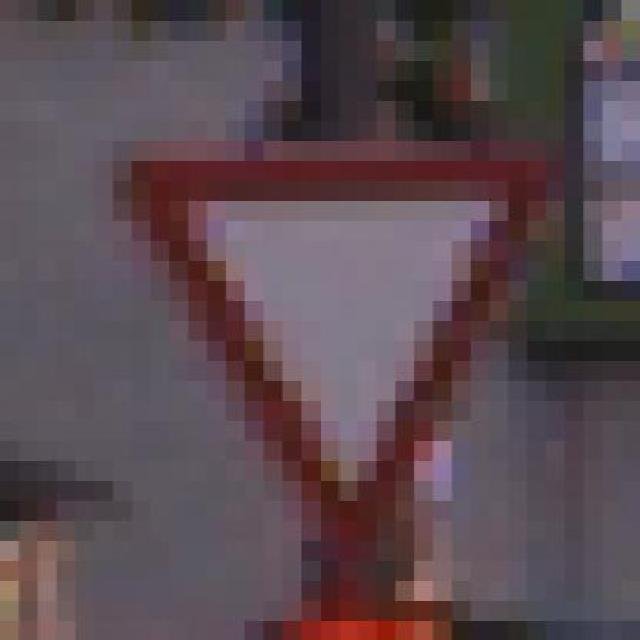Give Way: (93, 100, 564, 580)
